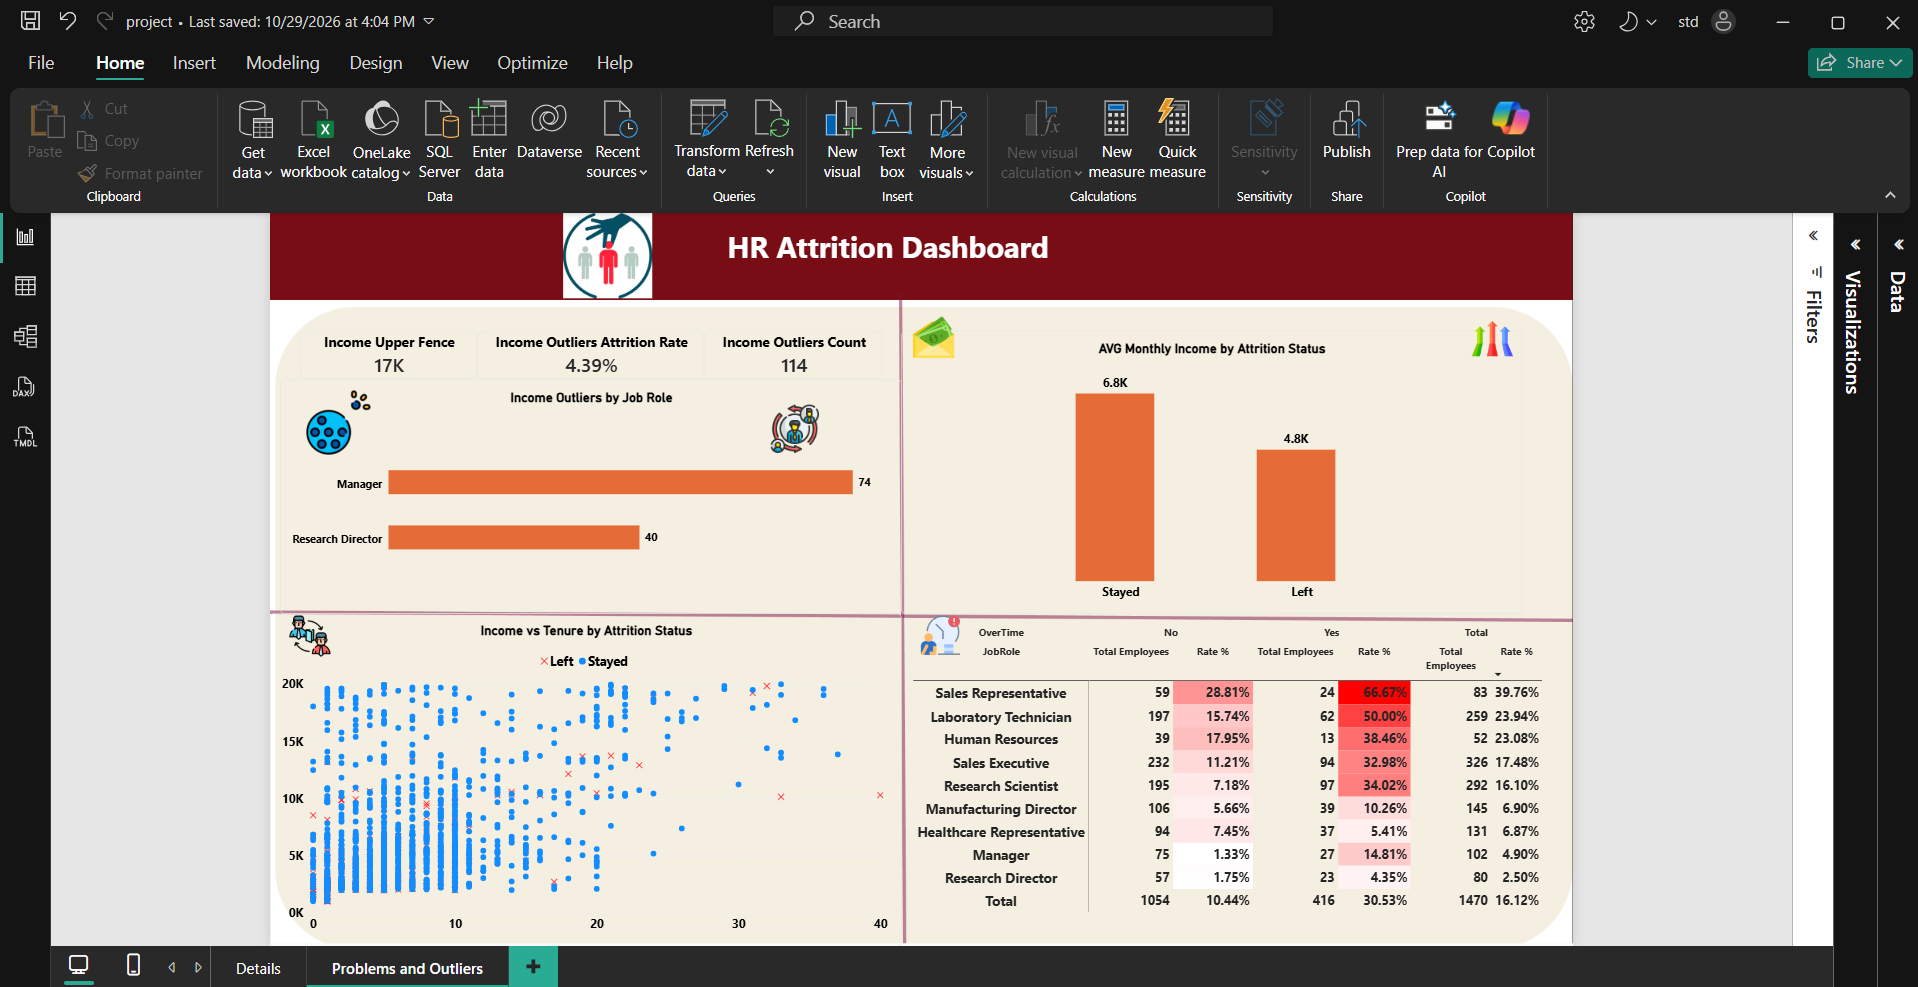

This screenshot's page, from the dashboard's own definition file:
{"tool":"powerbi","page":{"name":"Problems and Outliers","canvas":[1920,1080],"ordinal":1},"visuals":[{"type":"cardVisual","fields":{"Data":["Meausers.Income Upper Fence"]},"box":[44.2,173,261.4,71.8],"z":0},{"type":"cardVisual","fields":{"Data":["Meausers.Income Outliers Attrition Rate"]},"box":[305.5,173,335,71.8],"z":1000},{"type":"cardVisual","fields":{"Data":["Meausers.Income Outliers Count"]},"box":[640.1,172.9,261,71],"z":2000},{"type":"clusteredColumnChart","title":"AVG Monthly Income by Attrition Status","fields":{"Category":["Fact_Employee.AttritionStatus"],"Y":["Avg(Fact_Employee.MonthlyIncome)"]},"box":[930.4,172.9,913.9,417.8],"z":3000},{"type":"textbox","box":[529,20.6,763.6,105],"z":4000},{"type":"image","box":[43.2,261.4,117.3,94.7],"z":5000},{"type":"image","box":[932.4,152.3,88.3,60.7],"z":6000},{"type":"scatterChart","title":"Income vs Tenure by Attrition Status","fields":{"Category":["Fact_Employee.EmployeeNumber"],"Series":["Fact_Employee.AttritionStatus"],"X":["Sum(Fact_Employee.YearsAtCompany)"],"Y":["Sum(Fact_Employee.MonthlyIncome)"]},"box":[0,589.5,930.5,491.2],"z":7000},{"type":"pivotTable","fields":{"Columns":["Dim_WorkConditions.OverTime"],"Rows":["Dim_Job.JobRole"],"Values":["Meausers.Total Employees","Meausers.Attrition Rate %"]},"box":[931.5,588.5,986.8,491.2],"z":8000},{"type":"clusteredBarChart","title":"Income Outliers by Job Role","fields":{"Category":["Dim_Job.JobRole"],"Y":["Meausers.Income Outliers Count"]},"box":[14.4,244.9,916,345.8],"z":8001},{"type":"image","box":[1755.8,154.4,88.3,60.7],"z":8002},{"type":"image","box":[724.5,279.9,94.7,76.2],"z":8003},{"type":"image","box":[14.4,592.8,88.3,60.7],"z":8004},{"type":"image","box":[938.6,590.7,96.7,61.7],"z":8005},{"type":"image","box":[382.8,0,228.5,125.6],"z":8006}]}

Visuals, with their boxes on the page's 1920x1080 design canvas (x1, y1, x2, y2). These are canvas units, not pixel positions in the 1918x987 screenshot, which may show the page scaled, cropped or inside an application window:
cardVisual - Meausers.Income Upper Fence: [44,173,306,245]
cardVisual - Meausers.Income Outliers Attrition Rate: [306,173,640,245]
cardVisual - Meausers.Income Outliers Count: [640,173,901,244]
"AVG Monthly Income by Attrition Status" clusteredColumnChart: [930,173,1844,591]
textbox: [529,21,1293,126]
image: [43,261,160,356]
image: [932,152,1021,213]
"Income vs Tenure by Attrition Status" scatterChart: [0,590,930,1081]
pivotTable - Dim_WorkConditions.OverTime x Dim_Job.JobRole: [932,588,1918,1080]
"Income Outliers by Job Role" clusteredBarChart: [14,245,930,591]
image: [1756,154,1844,215]
image: [724,280,819,356]
image: [14,593,103,654]
image: [939,591,1035,652]
image: [383,0,611,126]
